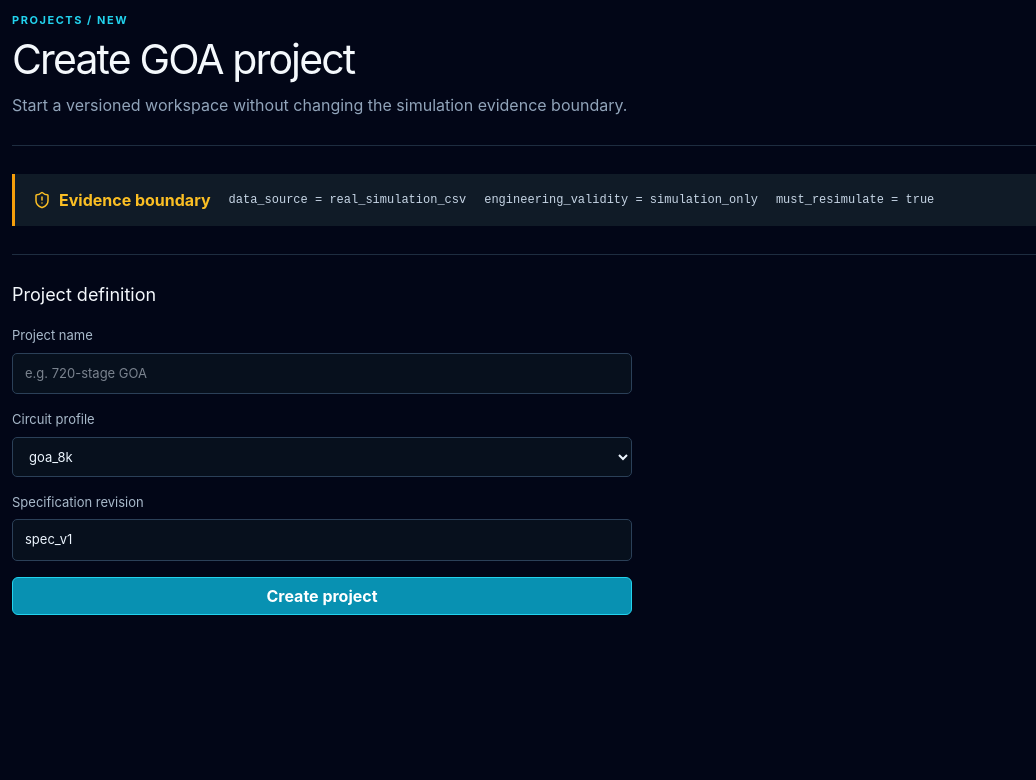
Scenario: validates required fields beside the form
Click the button "Create project": (322, 596) [12, 577, 632, 615]
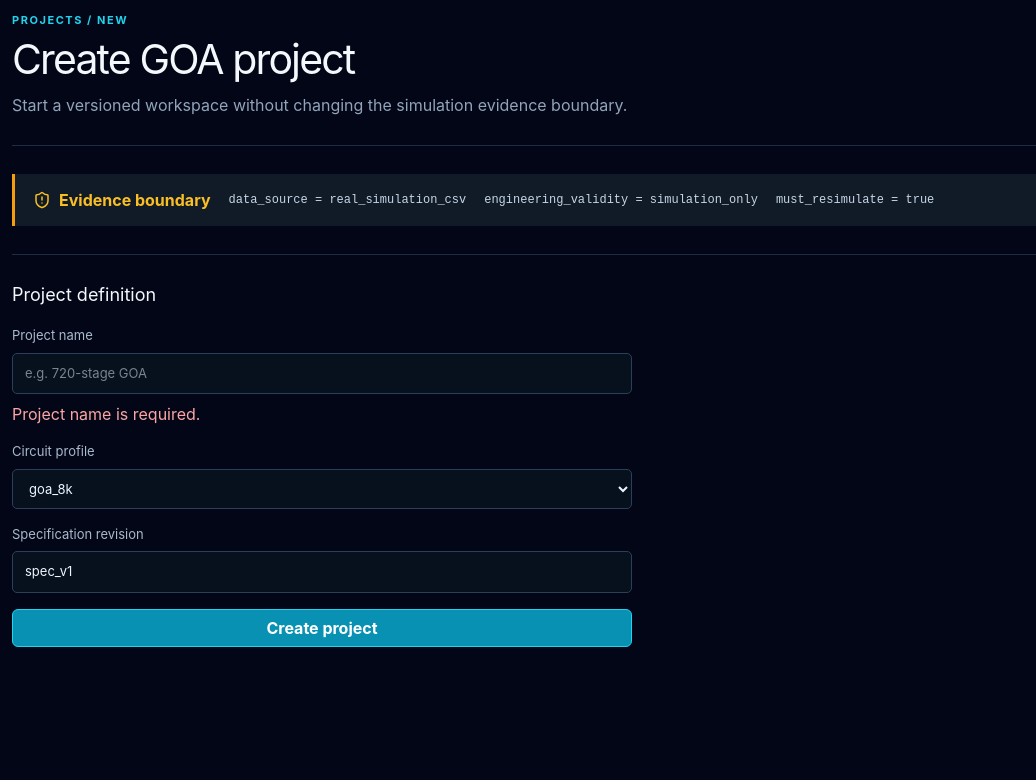
Check: the text "Project name is required." is shown, box [12, 404, 200, 424]
